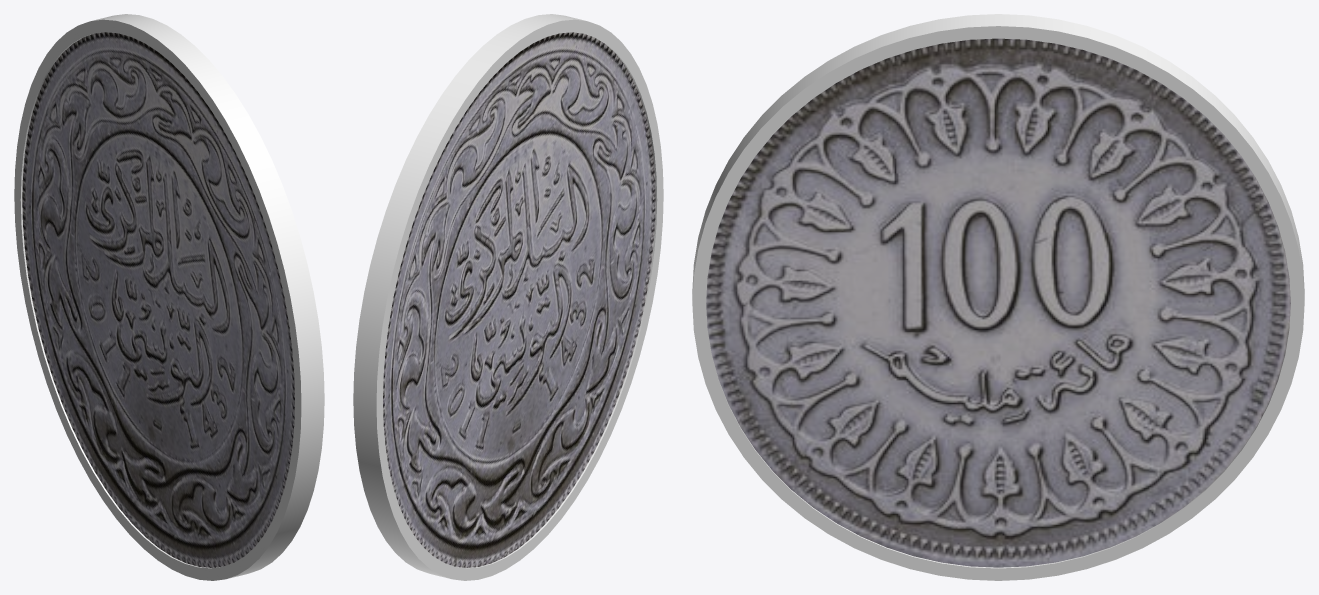
3 views of the same model, side by side, from view 1: azimuth 30°, elevation 25°; view 2: azimuth 150°, elevation 25°; view 3: azimuth 270°, elevation 25° (orthographic). The views are drawn at different scales.
Visible parts, largest first — view 1: Cylinder; view 2: Cylinder; view 3: Cylinder.
Boxes of the visible parts, <box> form: Cylinder: <box>14,14,324,580</box>; Cylinder: <box>353,14,663,580</box>; Cylinder: <box>692,14,1304,580</box>.
Bounding box in the file's own units: 0.0646 × 1.39 × 1.39.
3 materials, 2 textured.
